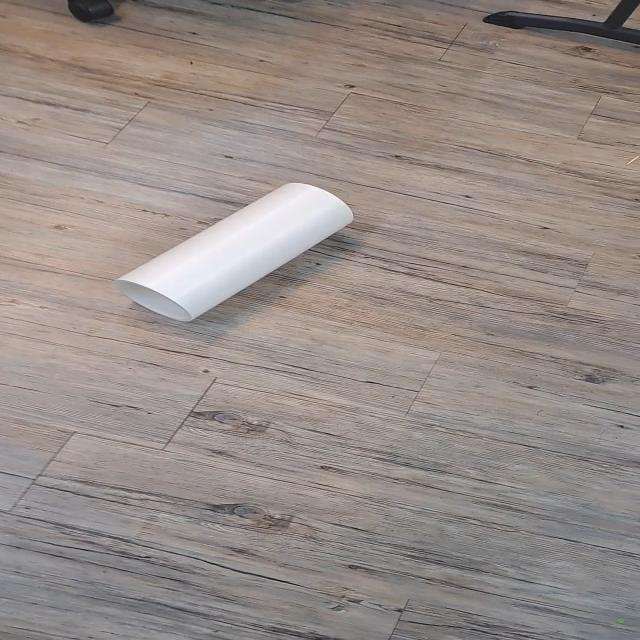CORAL: (113, 175, 383, 329)
